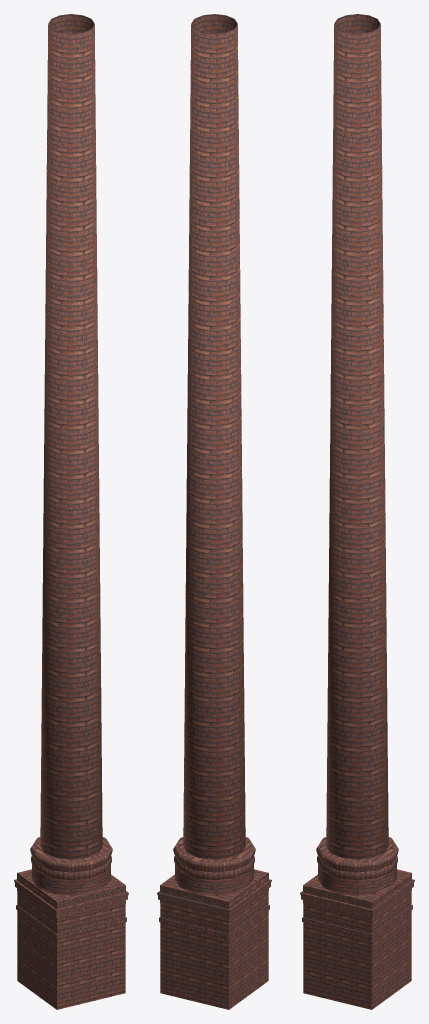
The model's file is kehrasaari.obj.
3 views of the same model, side by side, from view 1: azimuth 30°, elevation 25°; view 2: azimuth 150°, elevation 25°; view 3: azimuth 330°, elevation 25° (orthographic).
Visible parts, largest first — view 1: Cube.006; view 2: Cube.006; view 3: Cube.006.
Part boxes in pixels (x1,y1,x2,y2): Cube.006: (14, 14, 128, 1009); Cube.006: (157, 14, 271, 1009); Cube.006: (300, 14, 414, 1009).
Bounding box in the file's own units: 2.12 × 26.8 × 2.12.
1 material, 1 textured.
